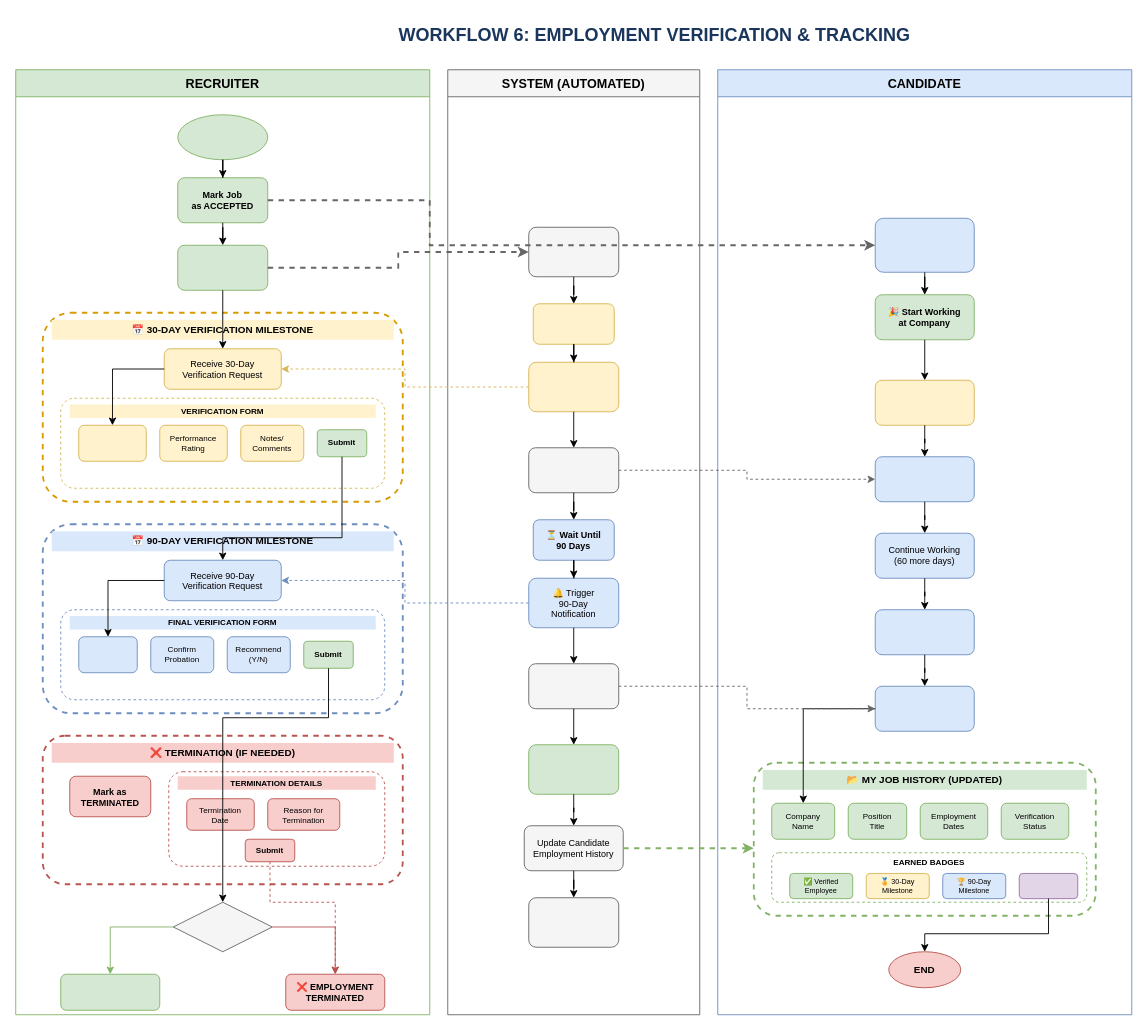
This 1148x1031 diagram has some shape labels left out. The centre of each missing label's shape, as x and y in pixels:
"30-Day Employment Period" belongs at pixel 924 402.
"90-Day Employment Period Complete" belongs at pixel 924 632.
"Close Job Application Record" belongs at pixel 573 922.
"Employment Status" belongs at pixel 112 442.
"Final Status" belongs at pixel 107 654.
"Final Status?" belongs at pixel 222 926.
"Initialize Employment Tracking" belongs at pixel 573 251.
"Receive Job Acceptance Confirmation" belongs at pixel 924 244.
"Set Employment Start Date" belongs at pixel 222 267.
"START Job Accepted" belongs at pixel 222 137.
"⏳ Wait 30 Days" belongs at pixel 573 323.
"✅ EMPLOYMENT CONFIRMED" belongs at pixel 110 991.
"✅ Finalize Employment Record" belongs at pixel 573 769.
"⭐ Recommended" belongs at pixel 1048 886.
"📋 View 30-Day Status Update" belongs at pixel 924 479.
"📋 View 90-Day Status Update" belongs at pixel 924 708.
"📝 Record 30-Day Status" belongs at pixel 573 470.
"📝 Record 90-Day Status" belongs at pixel 573 686.
"🔔 Trigger 30-Day Notification" belongs at pixel 573 386.
